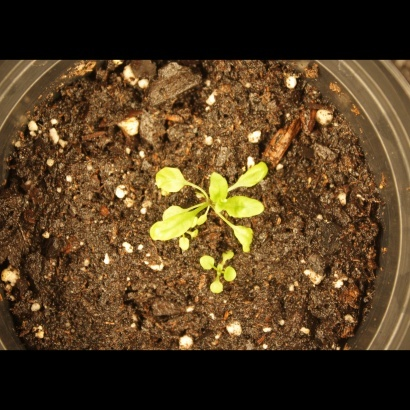leaf: (146, 214, 200, 246), (220, 193, 270, 223), (233, 157, 271, 191), (227, 222, 259, 256), (151, 164, 186, 195), (206, 172, 231, 213), (193, 250, 219, 274), (162, 202, 185, 225), (202, 278, 225, 301), (218, 243, 241, 266), (224, 264, 247, 287)
